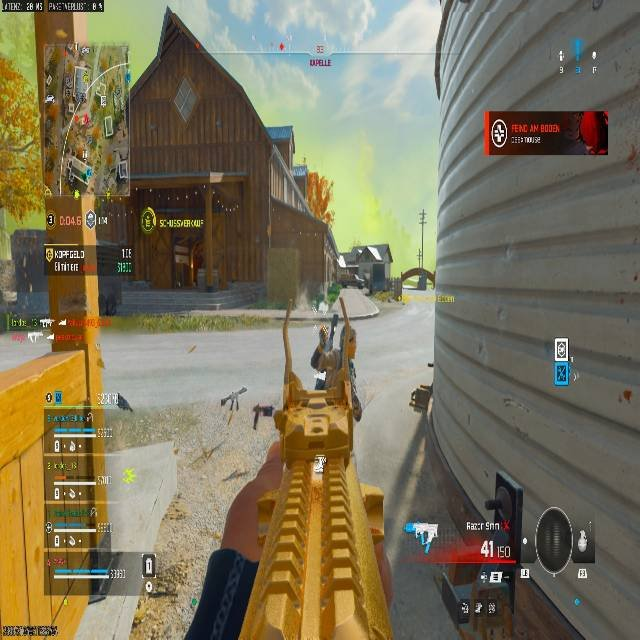player: (329, 245, 382, 311)
